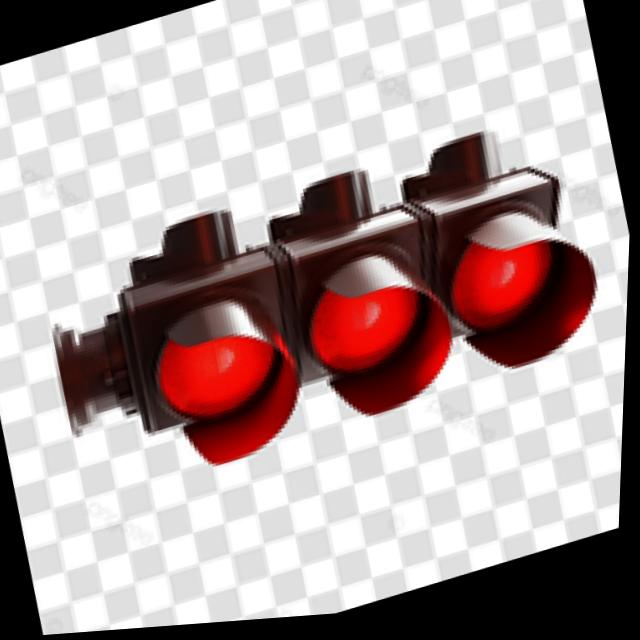red_light: (75, 218, 355, 527), (273, 177, 481, 482), (369, 185, 611, 422)
